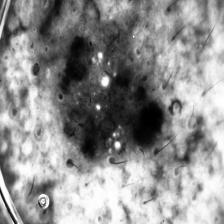Potentially Malignant Skin Tumors: (44, 20, 166, 172)
